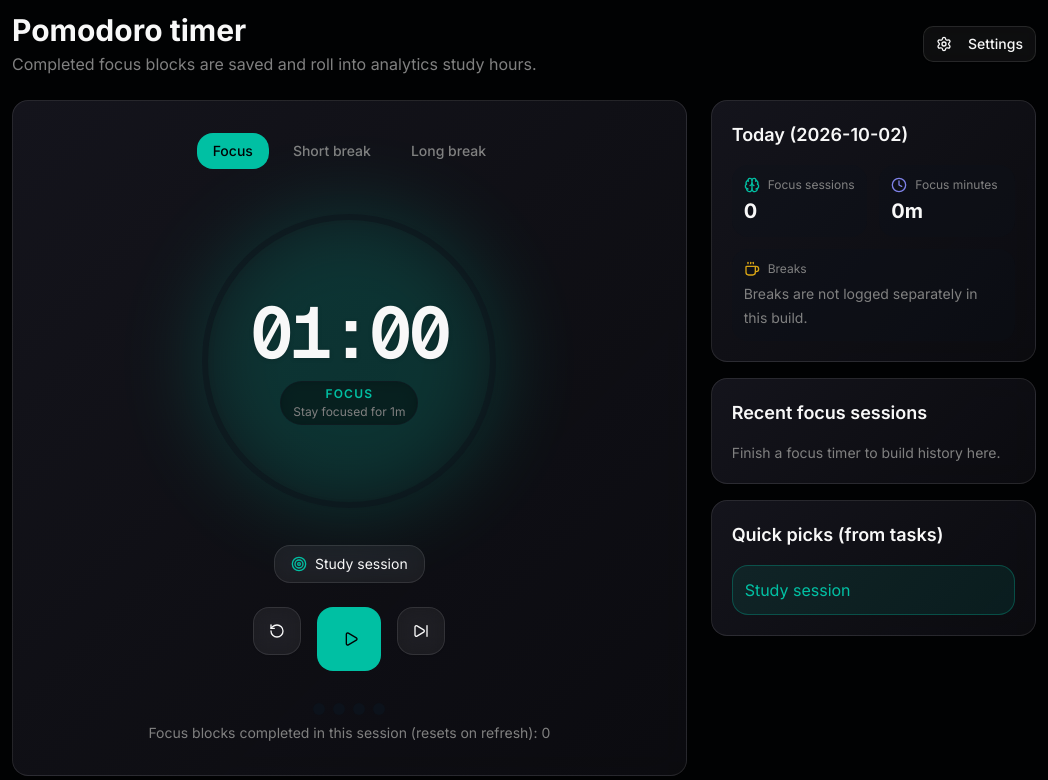
Test: pauses without losing elapsed time and resumes from the same point
What coordinates should you click on to do the following:
click the button named "start"
I would click on:
 (349, 639)
Its box is [317, 607, 381, 671].
Wait 10000 ms
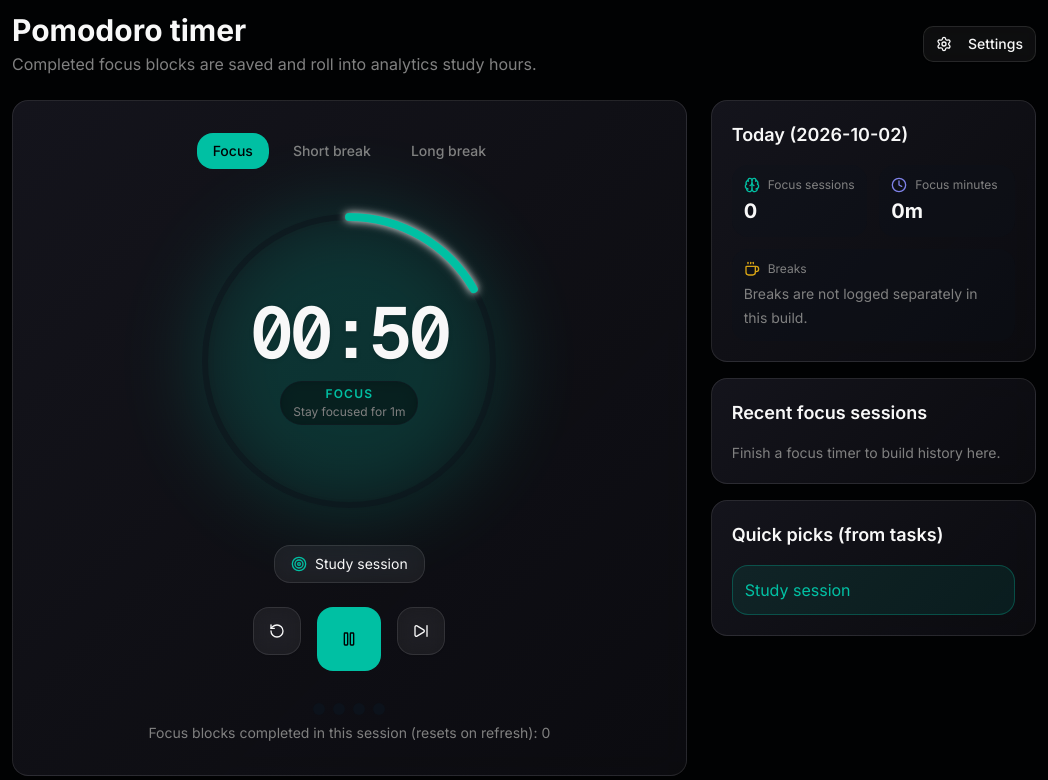
Expected: the text "00:50" is shown, [250, 297, 448, 369]
What coordinates should you click on to do the following:
click the button named "pause"
I would click on:
 (349, 639)
Its box is [317, 607, 381, 671].
Wait 10000 ms
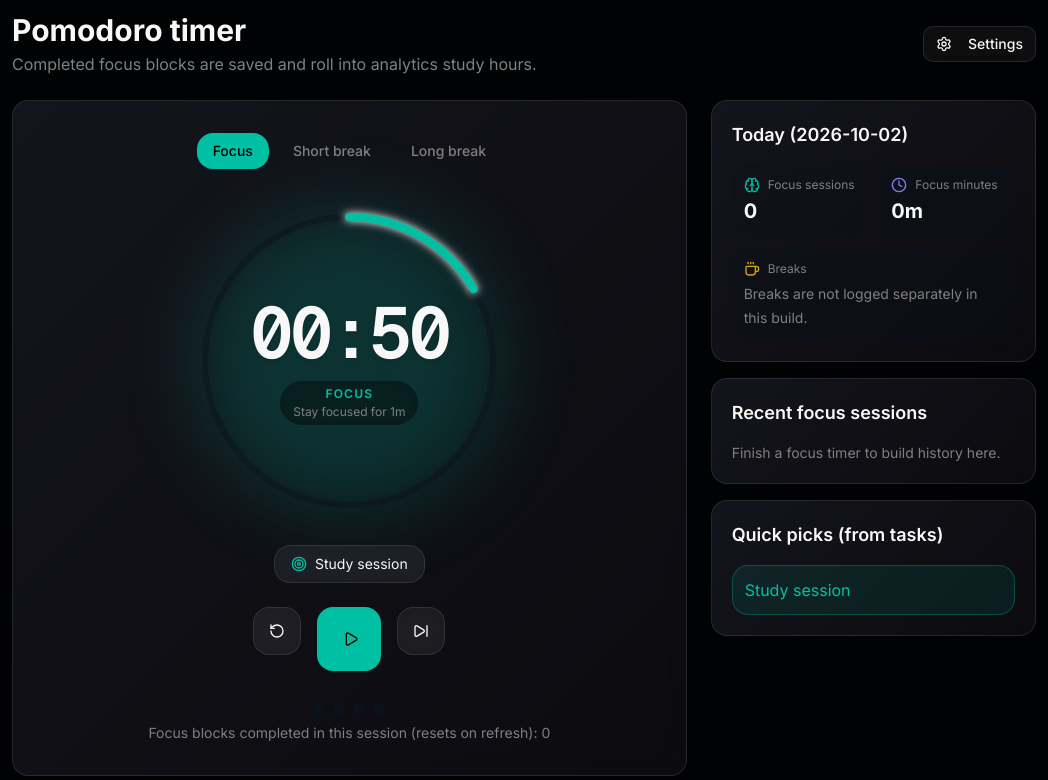
Expected: the text "00:50" is shown, [250, 297, 448, 369]
What coordinates should you click on to do the following:
click the button named "Start timer"
I would click on:
 (349, 639)
Its box is [317, 607, 381, 671].
Wait 5000 ms
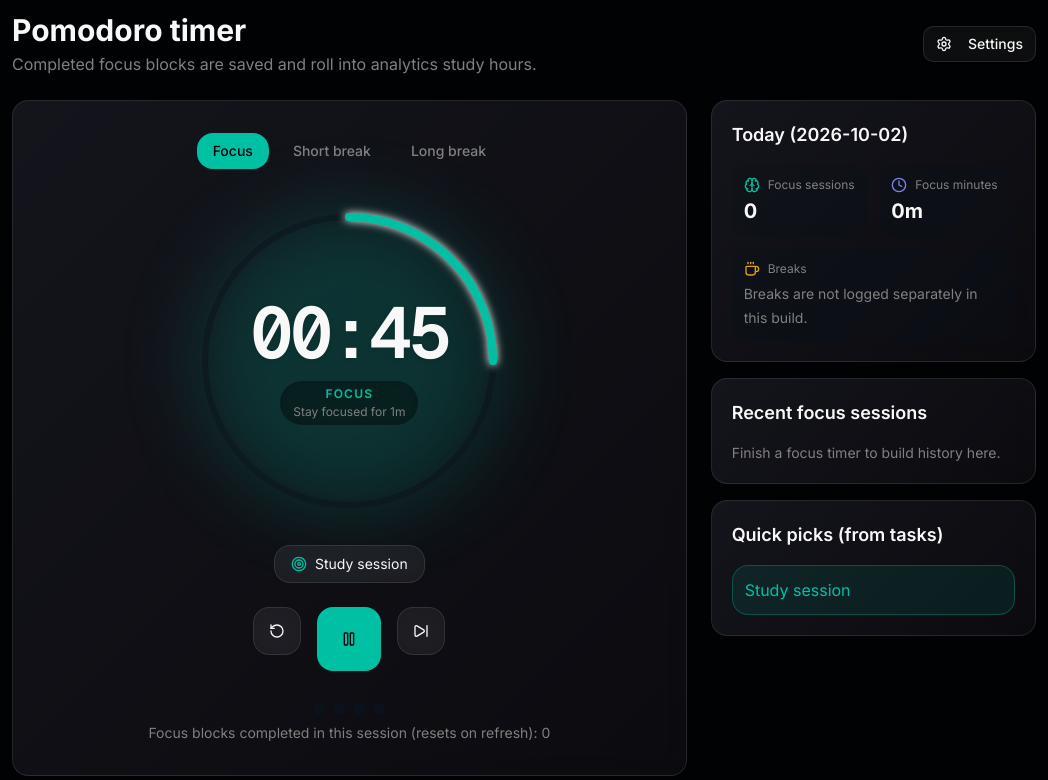
Expected: the text "00:45" is shown, [250, 297, 448, 369]
